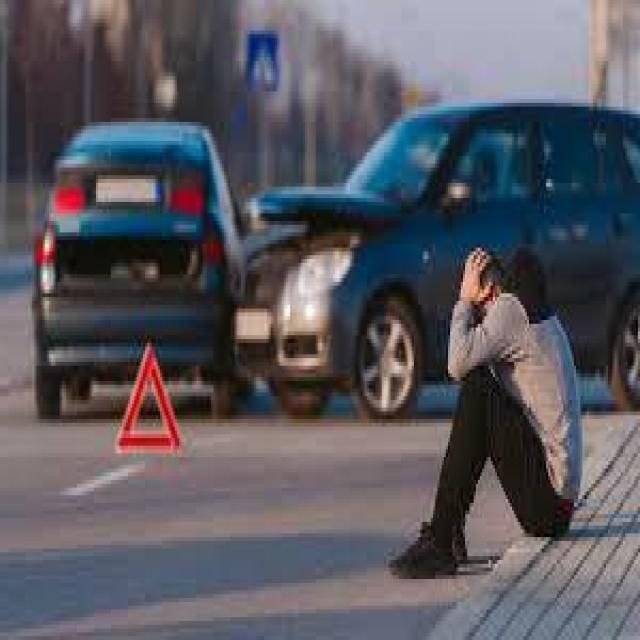multiple_accident: (186, 114, 370, 406)
